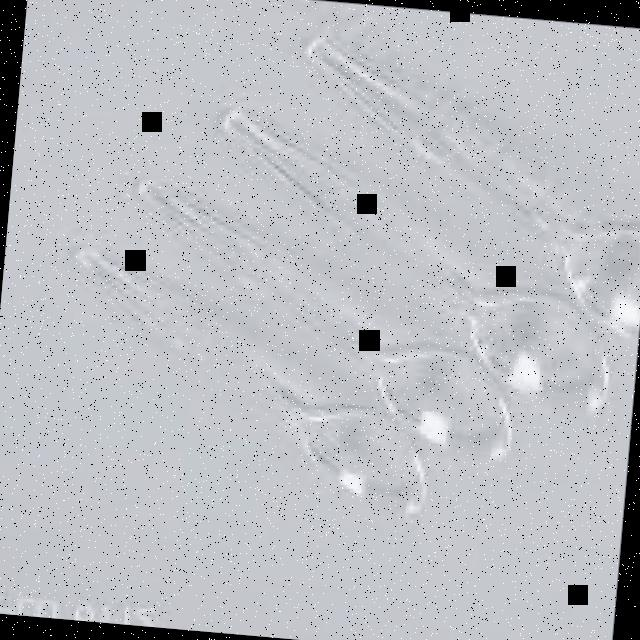plastic_box: (58, 13, 640, 536)
